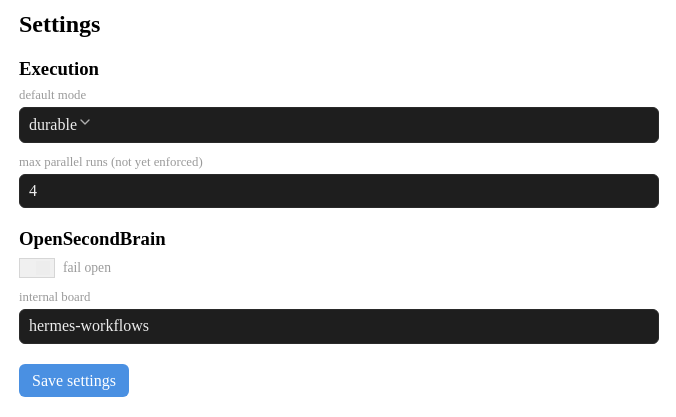
Test: SettingsPage › shows a saved confirmation after a successful save
Expected: the field labelled "internal board" is shown, [19,309,659,344]
Click the button "Save settings": {"x": 74, "y": 381} [19,364,129,397]
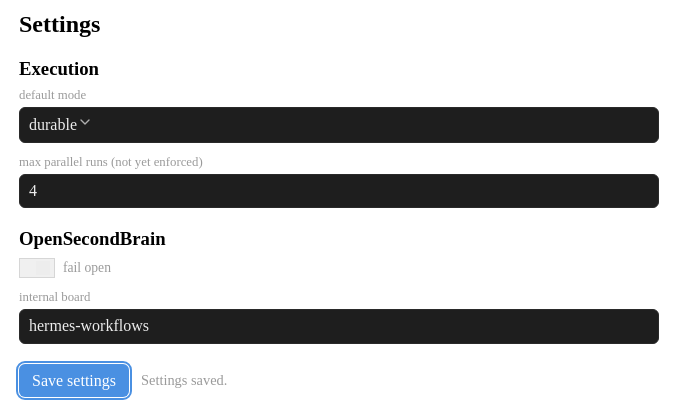
Now the text "Settings saved." is shown, box [141,372,227,389]
